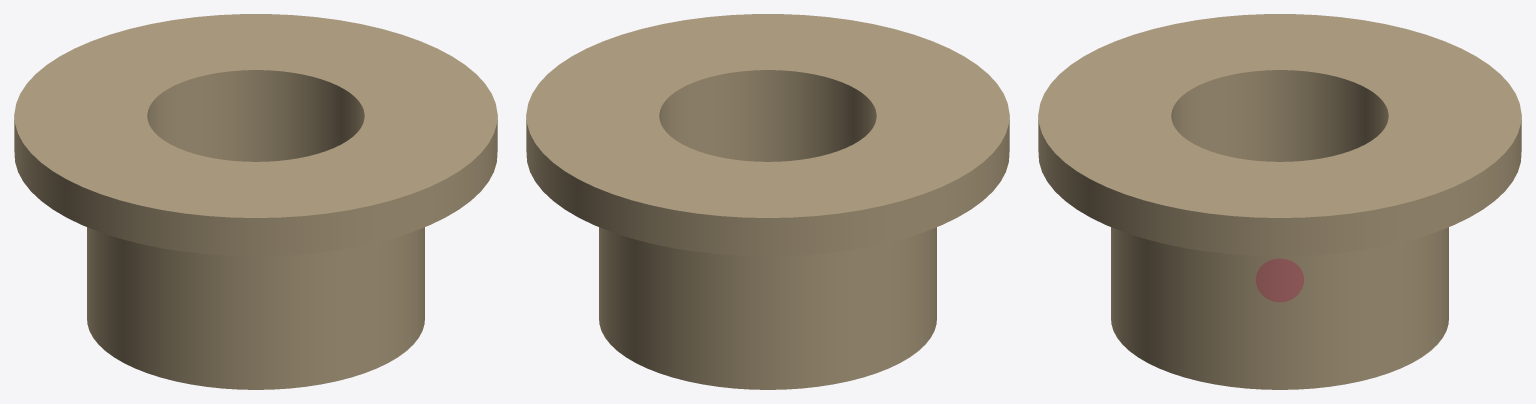
File: step_05.glb
3 views of the same model, side by side, from view 1: azimuth 30°, elevation 25°; view 2: azimuth 150°, elevation 25°; view 3: azimuth 270°, elevation 25° (orthographic).
Visible parts, largest first — view 1: part__bronze bush; view 2: part__bronze bush; view 3: part__bronze bush, removed__bronze bush.
Part boxes in pixels (x1=…): part__bronze bush: x1=14, y1=14, x2=497, y2=389; part__bronze bush: x1=526, y1=14, x2=1009, y2=389; part__bronze bush: x1=1038, y1=14, x2=1521, y2=389; removed__bronze bush: x1=1256, y1=258, x2=1303, y2=302.
Size of the model in its own units: 79.95 by 37 by 79.98.
